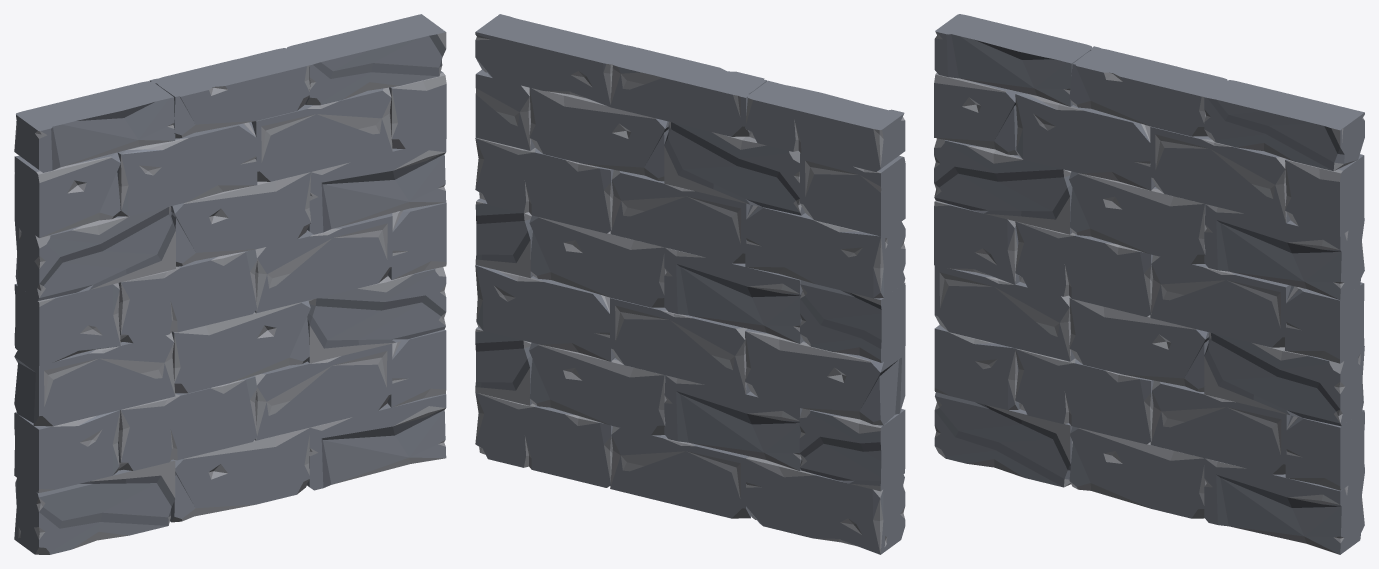
Rendered from mesh_stone_wall.fbx.
The picture shows the model from 3 angles, left to right: view 1: azimuth 30°, elevation 25°; view 2: azimuth 150°, elevation 25°; view 3: azimuth 330°, elevation 25°; orthographic projection.
Visible parts, largest first — view 1: mesh_stone_wall; view 2: mesh_stone_wall; view 3: mesh_stone_wall.
Part boxes in pixels (x1,y1,x2,y2): mesh_stone_wall: (14,14,446,554); mesh_stone_wall: (475,14,905,554); mesh_stone_wall: (934,14,1364,554).
Bounding box in the file's own units: 2 × 2 × 0.2139.
